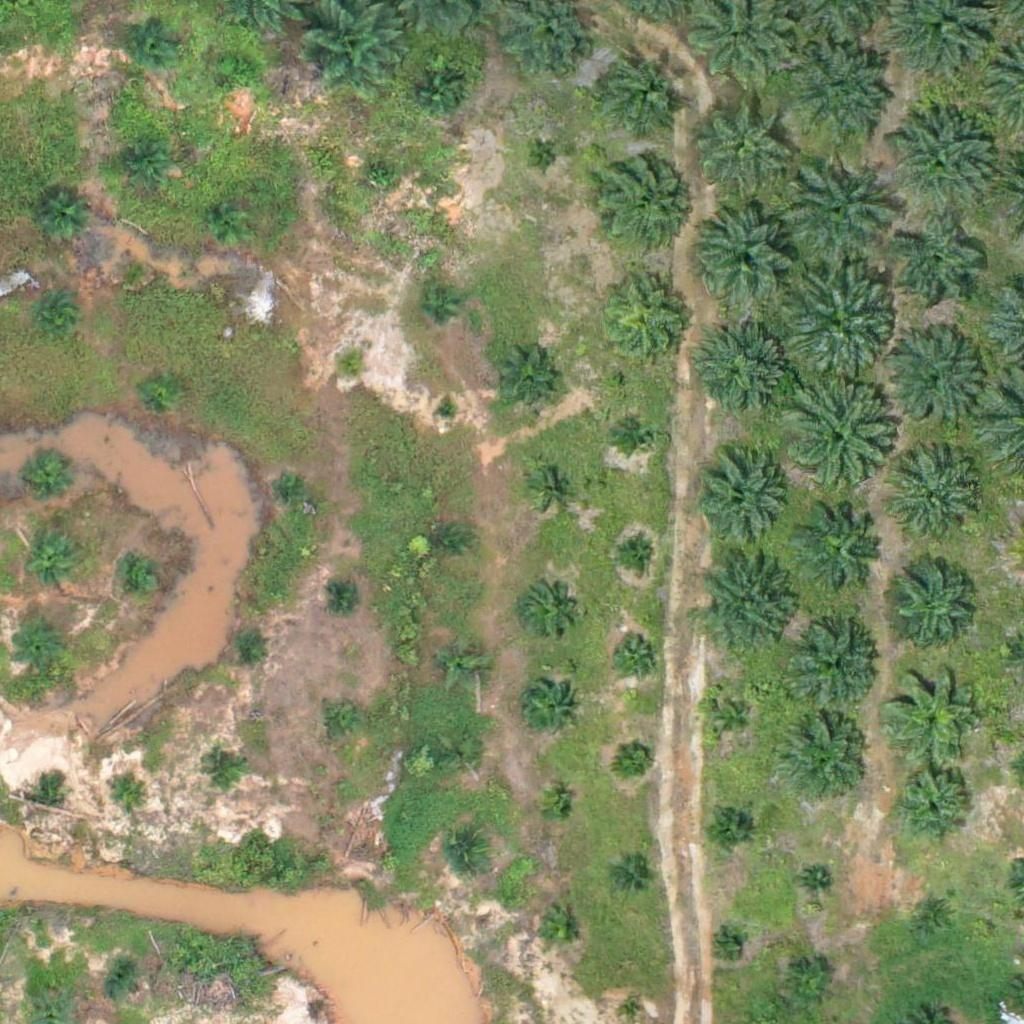Kelapa_Sawit: (774, 260, 899, 385), (774, 379, 899, 504), (886, 106, 999, 219), (783, 37, 896, 150), (780, 155, 893, 268), (889, 218, 989, 319), (884, 327, 984, 428), (687, 88, 787, 189), (698, 205, 798, 306), (695, 324, 795, 425), (692, 452, 792, 553), (590, 43, 690, 144), (592, 149, 692, 250), (597, 270, 697, 371), (882, 662, 982, 763), (700, 554, 800, 655), (895, 456, 983, 545), (889, 763, 977, 851), (780, 712, 868, 800), (792, 620, 880, 708), (799, 507, 887, 595), (889, 552, 976, 640), (492, 351, 555, 414), (519, 678, 581, 741), (33, 194, 83, 245), (23, 452, 73, 503), (411, 65, 461, 116), (522, 581, 572, 632), (535, 905, 585, 956), (438, 638, 488, 689), (28, 536, 78, 586), (14, 622, 64, 672), (911, 891, 961, 941), (784, 961, 834, 1011), (703, 801, 753, 851), (706, 692, 756, 742), (611, 628, 661, 678), (117, 139, 167, 189), (130, 16, 180, 66), (428, 523, 466, 561), (220, 51, 258, 89), (211, 202, 249, 240), (363, 158, 401, 196), (525, 139, 563, 177), (331, 348, 369, 386), (622, 417, 660, 455), (101, 962, 139, 1000), (121, 560, 158, 598), (538, 790, 576, 827), (616, 534, 653, 572), (534, 467, 571, 505), (328, 578, 366, 615), (204, 753, 241, 791), (445, 736, 483, 773), (618, 738, 655, 776), (415, 287, 452, 325), (112, 248, 149, 286), (108, 777, 145, 815), (38, 298, 75, 335), (614, 862, 651, 899), (446, 834, 483, 871), (226, 626, 263, 663), (323, 704, 360, 741), (143, 371, 180, 408), (274, 469, 311, 506), (31, 783, 56, 809), (715, 932, 740, 957), (434, 397, 459, 422), (803, 868, 827, 893)
